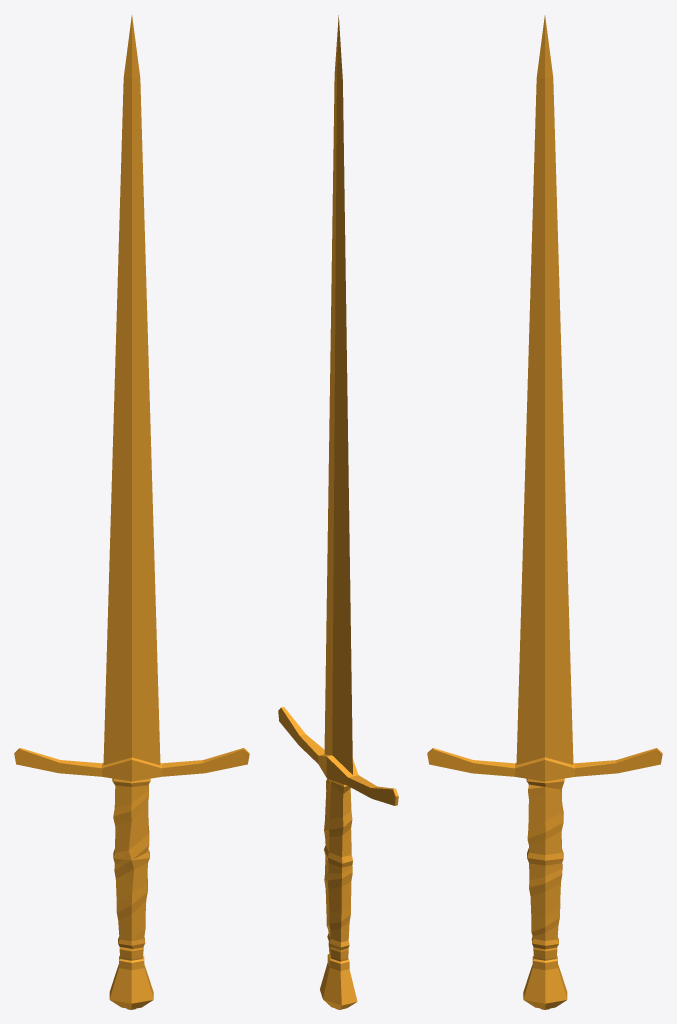
File: SM_Sword_Long_Fantasy.fbx
The picture shows the model from 3 angles, left to right: view 1: azimuth 90°, elevation 25°; view 2: azimuth 210°, elevation 25°; view 3: azimuth 270°, elevation 25°; orthographic projection.
Visible parts, largest first — view 1: sword-long-fantasy; view 2: sword-long-fantasy; view 3: sword-long-fantasy.
Boxes of the visible parts, x1,y1,x2,y2 form: sword-long-fantasy: (14, 15, 249, 1009); sword-long-fantasy: (278, 15, 398, 1009); sword-long-fantasy: (427, 15, 662, 1009).
Size of the model in its own units: 0.0426 by 1.29 by 0.2762.
